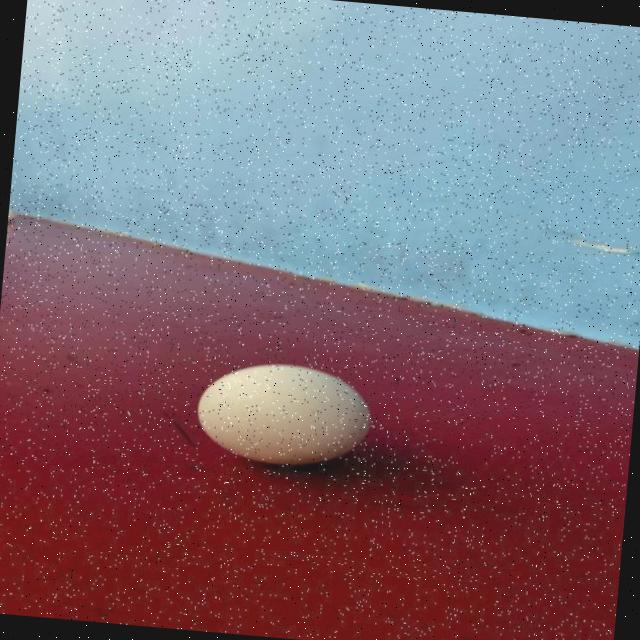ping-pong-ball: (154, 336, 432, 502)
